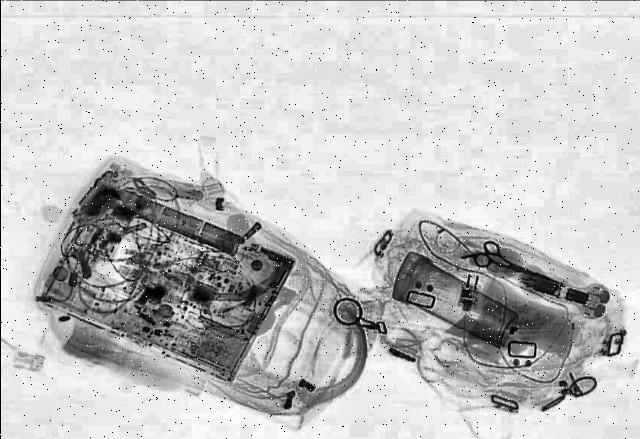Scissors: (468, 238, 576, 294)
